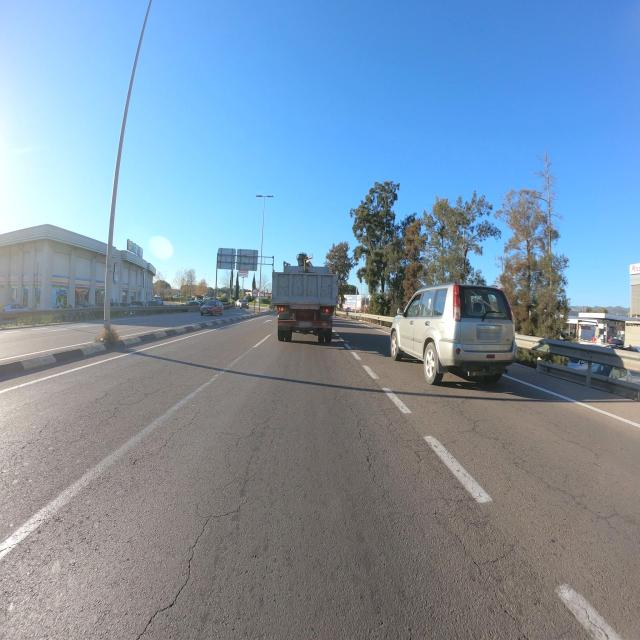car: (390, 281, 518, 386), (200, 298, 223, 316)
